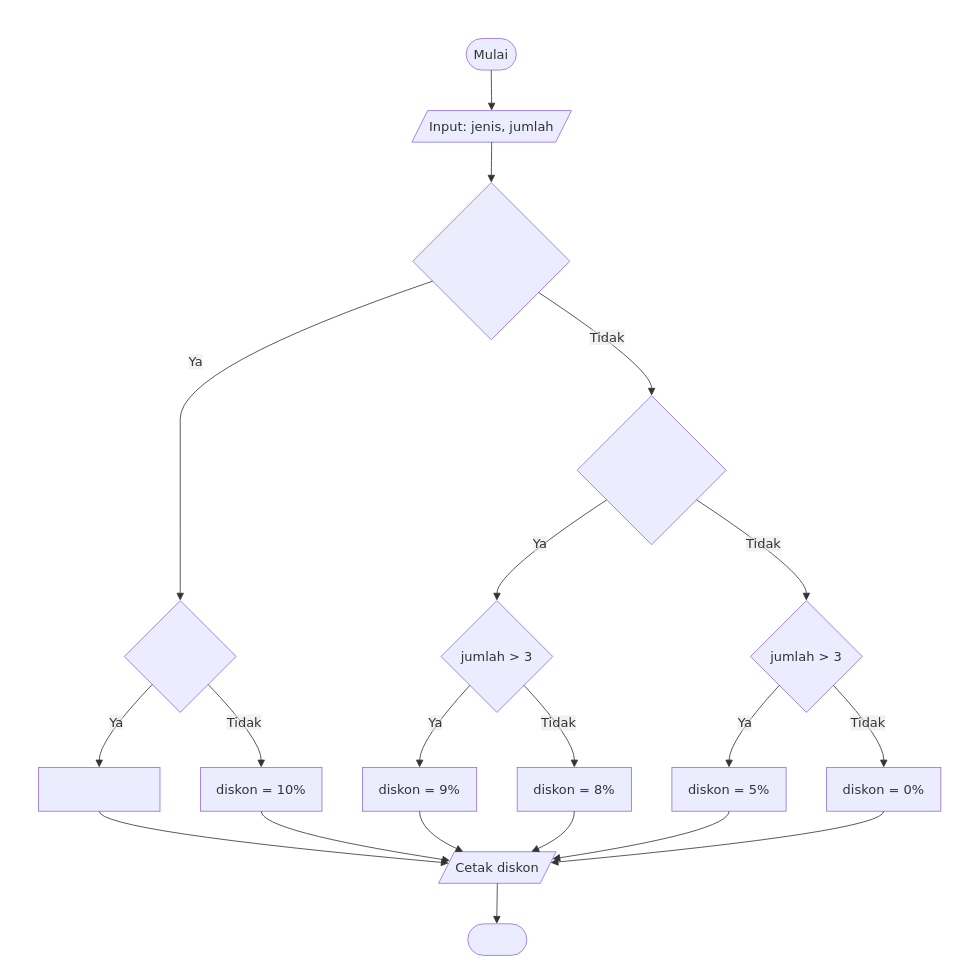
The diagram is 955 pixels wide and 970 high, and some of its shapes have lost their labels. The centre of each missing label's shape, as x and y in pixels:
"diskon = 12%" goes at (99,789).
"jenis == 'kamus'" goes at (491,261).
"jenis == 'novel'" goes at (651,470).
"jumlah > 2" goes at (180,656).
"Selesai" goes at (497,939).
